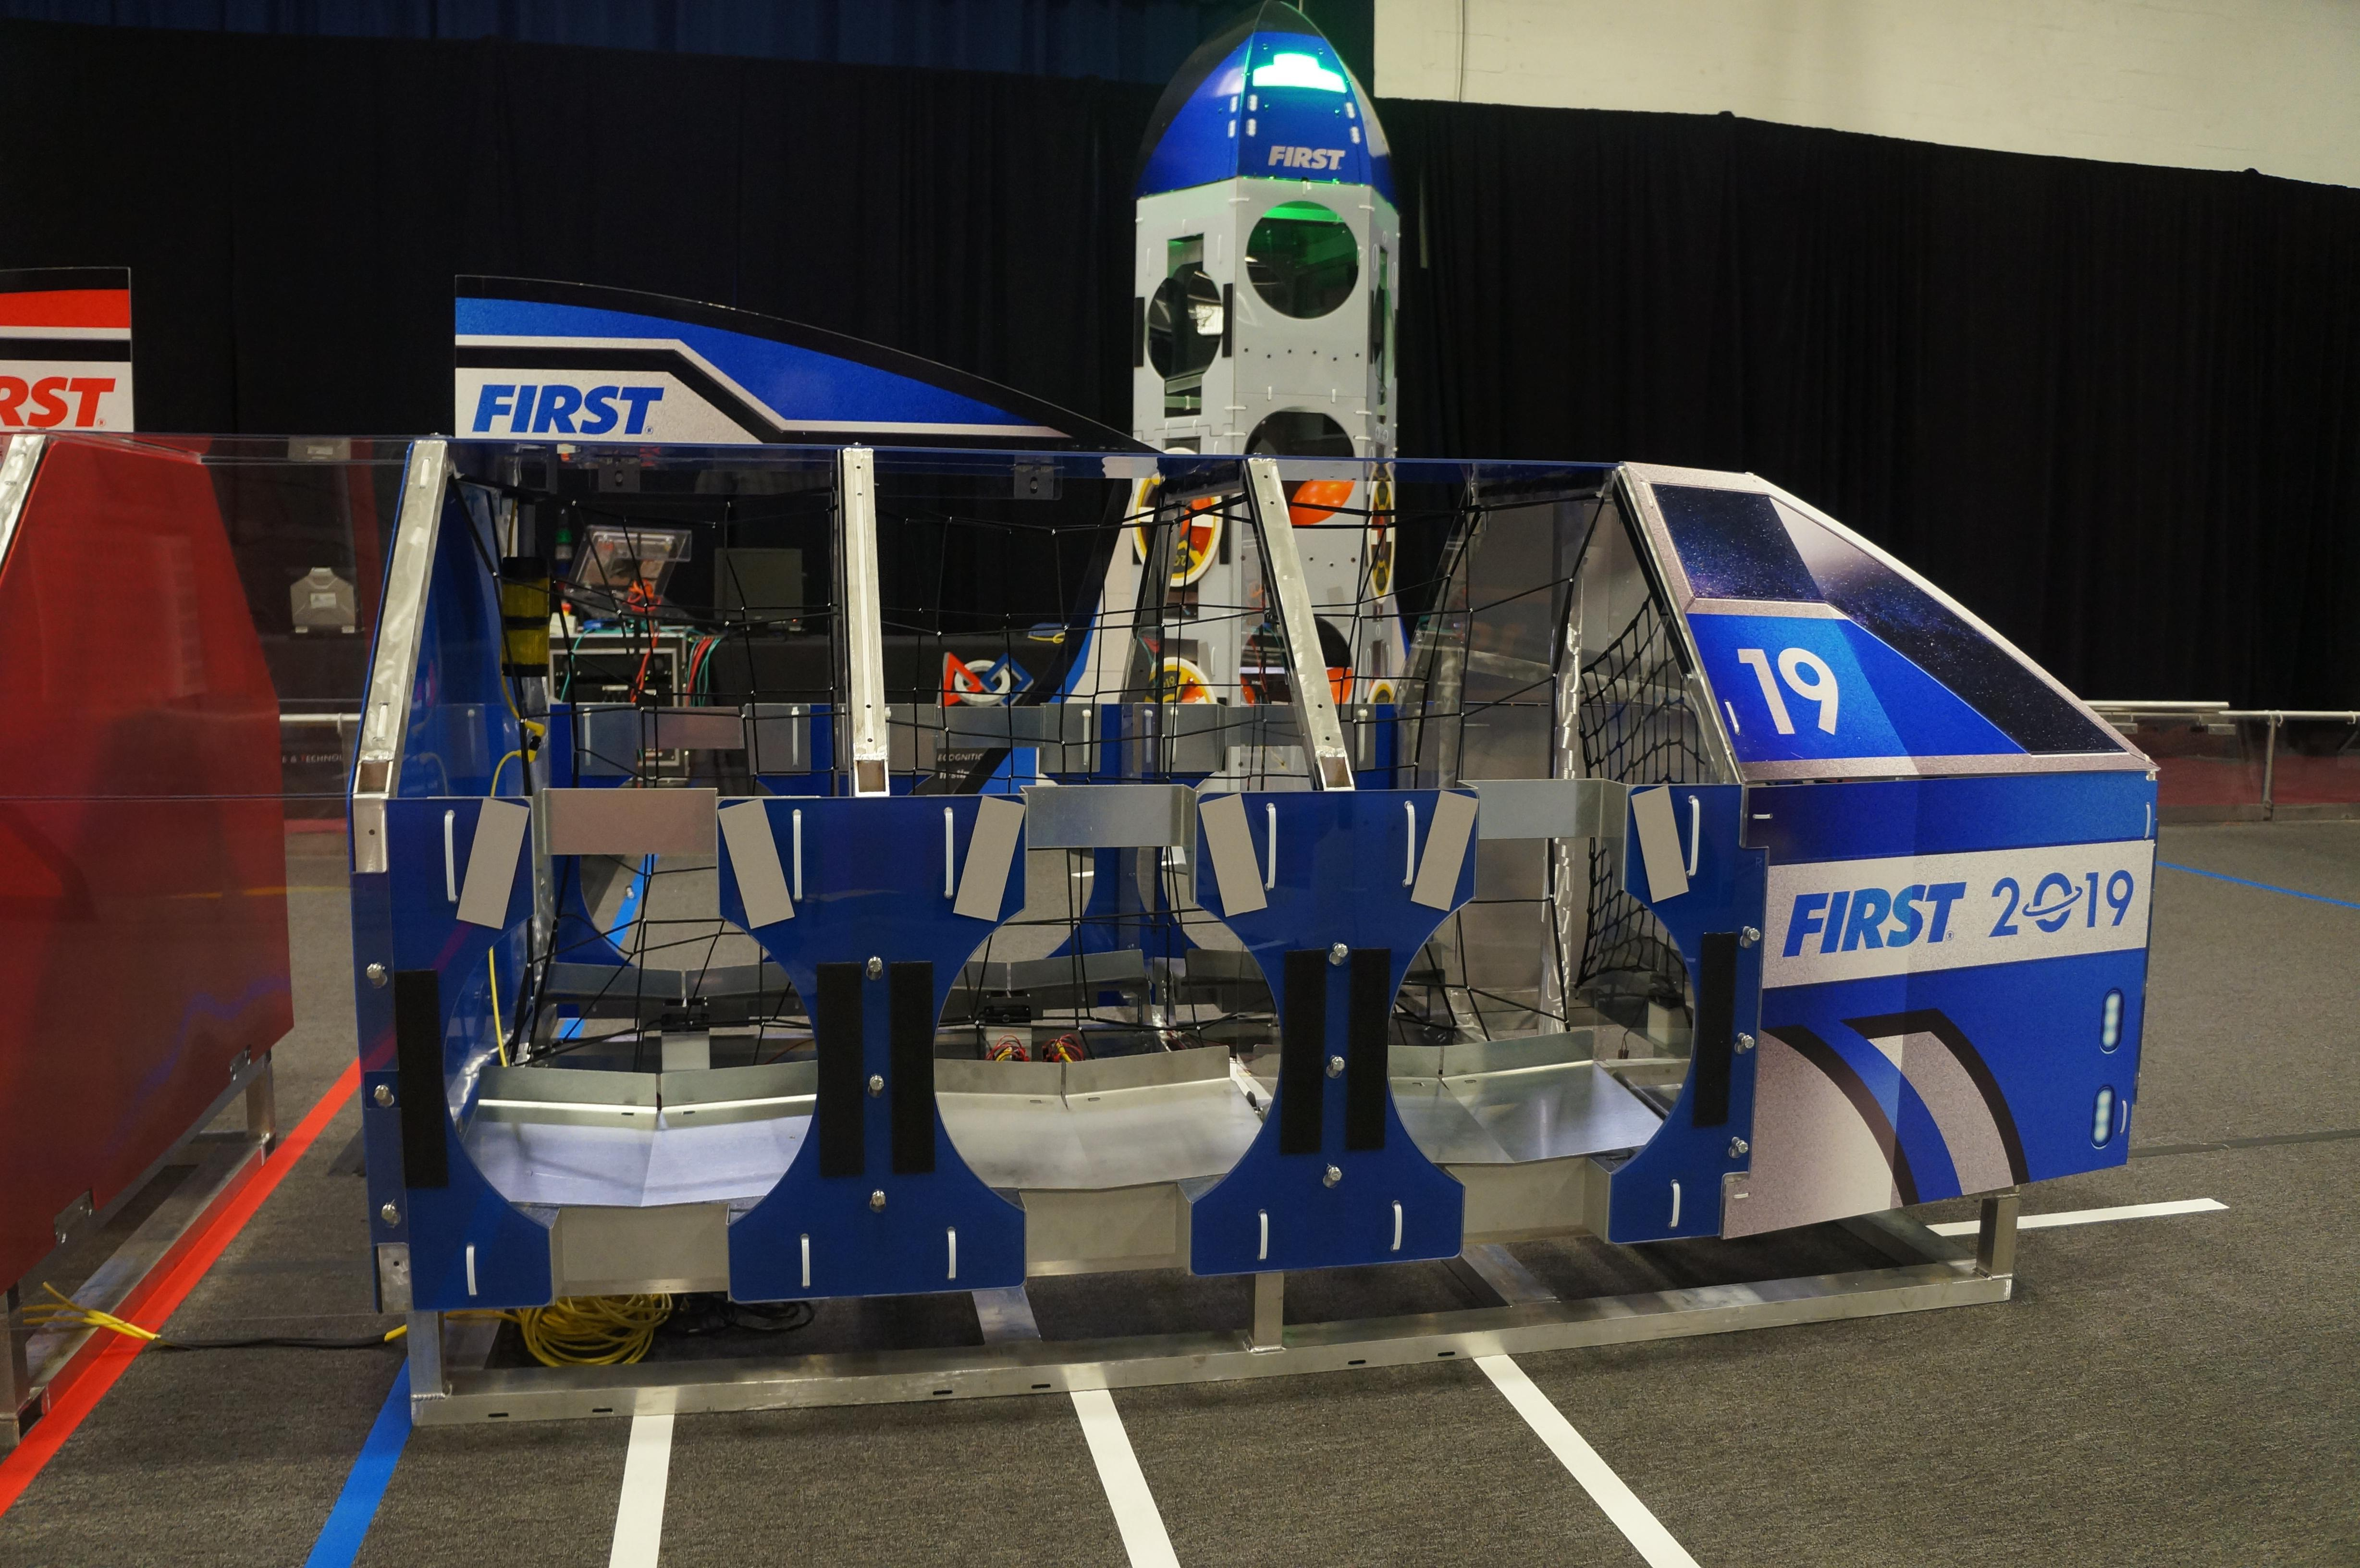Ball: (1289, 483, 1349, 528)
Tape: (712, 798, 799, 929), (453, 796, 530, 929), (955, 794, 1029, 922), (1197, 791, 1268, 917), (1410, 793, 1484, 908), (1625, 786, 1693, 905)
